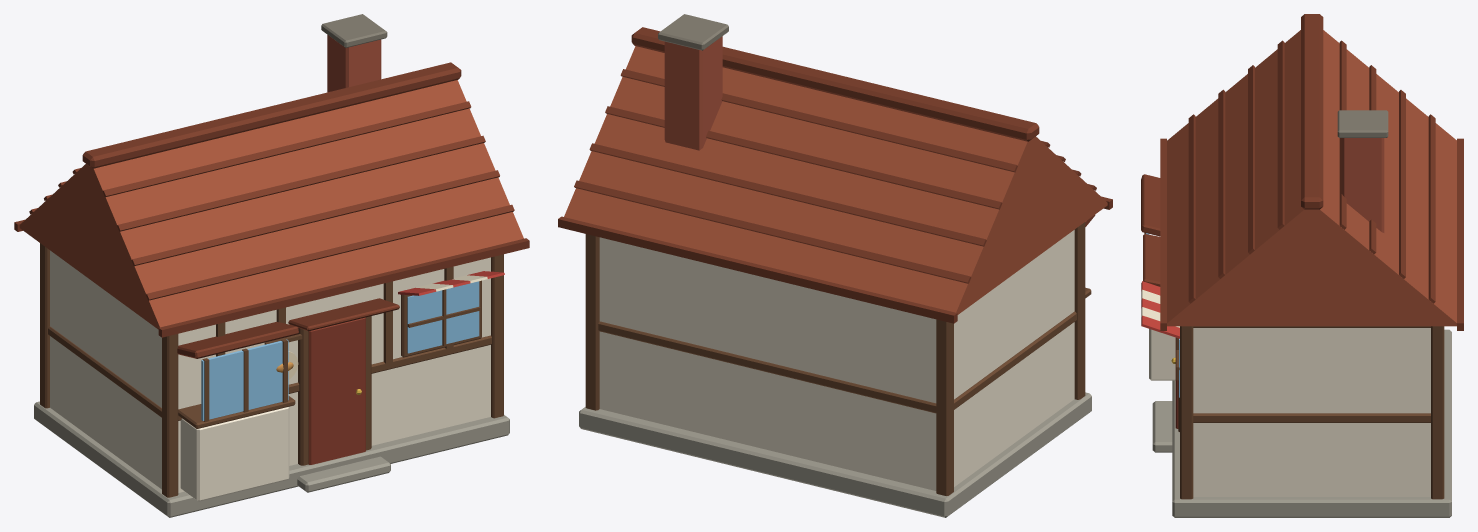
Rendered from cottage.glb.
The picture shows the model from 3 angles, left to right: view 1: azimuth 30°, elevation 25°; view 2: azimuth 150°, elevation 25°; view 3: azimuth 270°, elevation 25°; orthographic projection. The views are drawn at different scales.
Parts seen in each view (by area): view 1: cottage, door; view 2: cottage; view 3: cottage.
Boxes of the visible parts, left/top/right/bottom form: cottage: left=14, top=14, right=529, bottom=517; door: left=308, top=317, right=365, bottom=464; cottage: left=558, top=14, right=1112, bottom=517; cottage: left=1141, top=14, right=1463, bottom=517.
Bounding box in the file's own units: 5.2 × 4.77 × 3.81.
